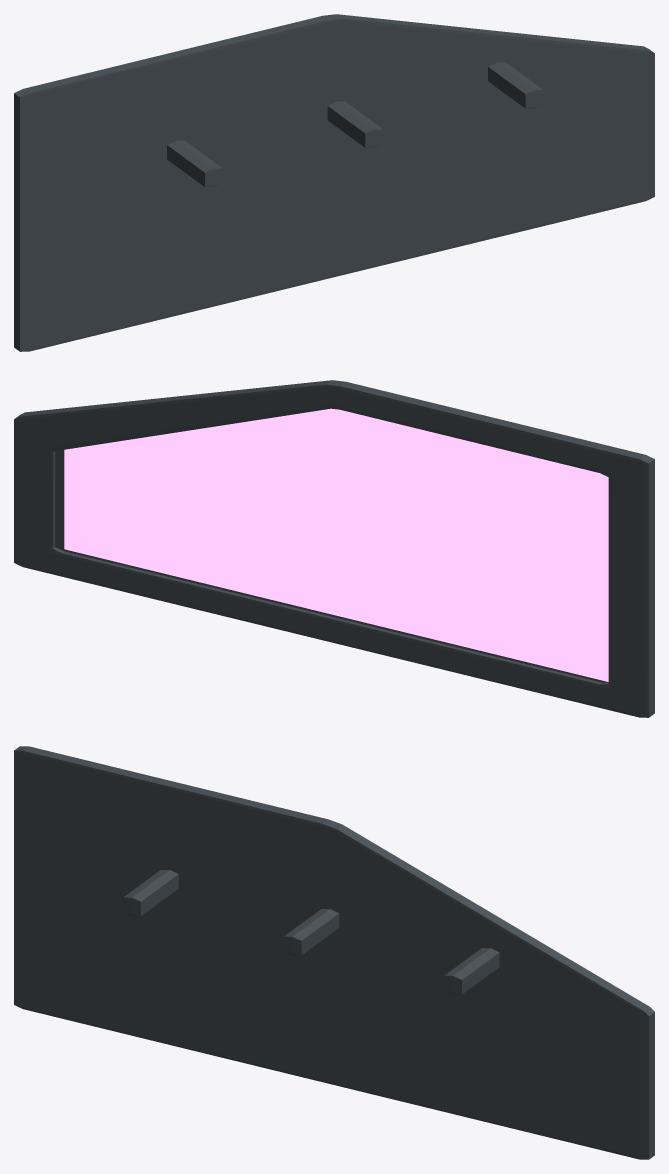
The model's file is sign2.fbx.
3 views of the same model, one above another, from view 1: azimuth 30°, elevation 25°; view 2: azimuth 150°, elevation 25°; view 3: azimuth 330°, elevation 25° (orthographic).
Visible parts, largest first — view 1: Куб; view 2: Куб; view 3: Куб.
Boxes of the visible parts, x1,y1,x2,y2 form: Куб: [14, 14, 654, 351]; Куб: [14, 380, 654, 717]; Куб: [14, 746, 654, 1159].
Bounding box in the file's own units: 180 × 70 × 21.62.
